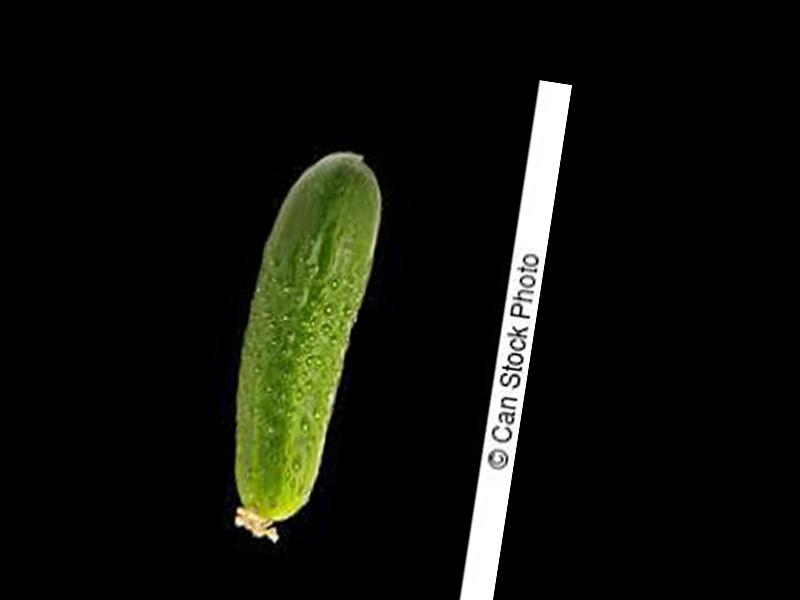Cucumber: (213, 140, 388, 551)
